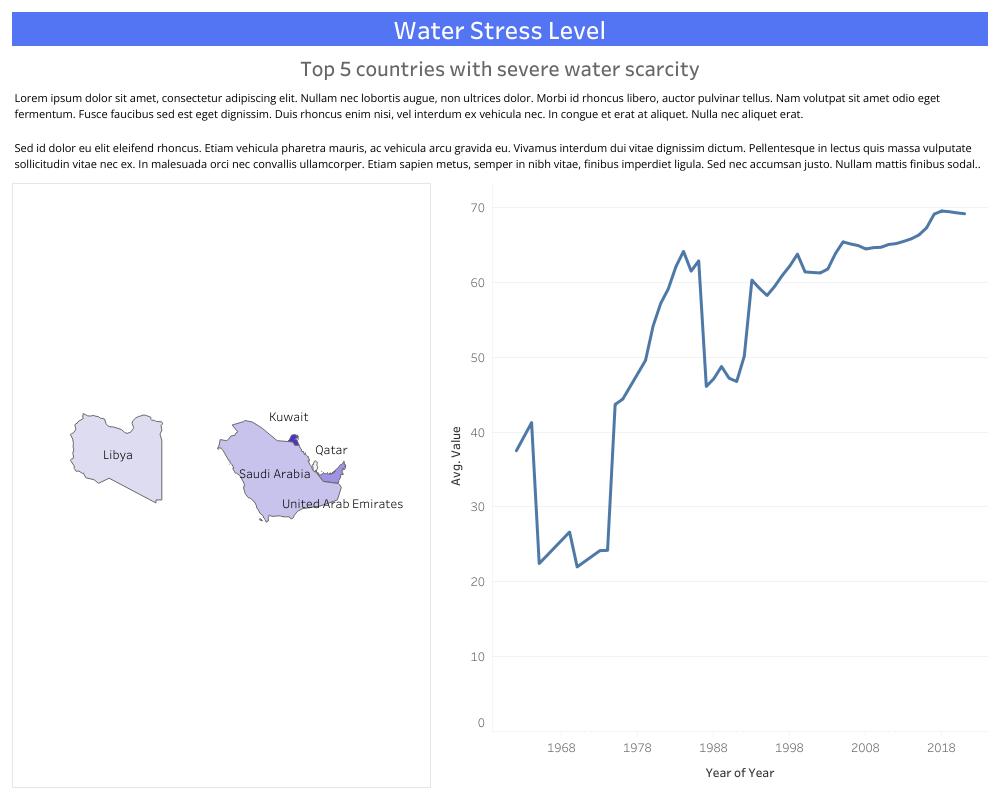

What the dashboard file says about the page in this screenshot:
{"tool":"tableau","page":{"name":"Water Scarcity","canvas":[1000,800],"ordinal":0},"visuals":[{"type":"title","box":[8,8,984,41]},{"type":"text","box":[8,49,984,36]},{"type":"text","box":[8,85,984,90]},{"type":"worksheet","title":"Map","mark":"Automatic","box":[8,178,427,614]},{"type":"worksheet","title":"Line","mark":"Automatic","rows":["Value"],"cols":["Year"],"box":[435,178,557,614]}]}

Visuals, with their boxes in screenshot pixels (x1, y1, x2, y2), scaled from the page's 1000x800 canvas onto the 999x799 screenshot:
title: [8, 8, 991, 49]
text: [8, 49, 991, 85]
text: [8, 85, 991, 175]
"Map" worksheet: [8, 178, 435, 791]
"Line" worksheet: [435, 178, 991, 791]
